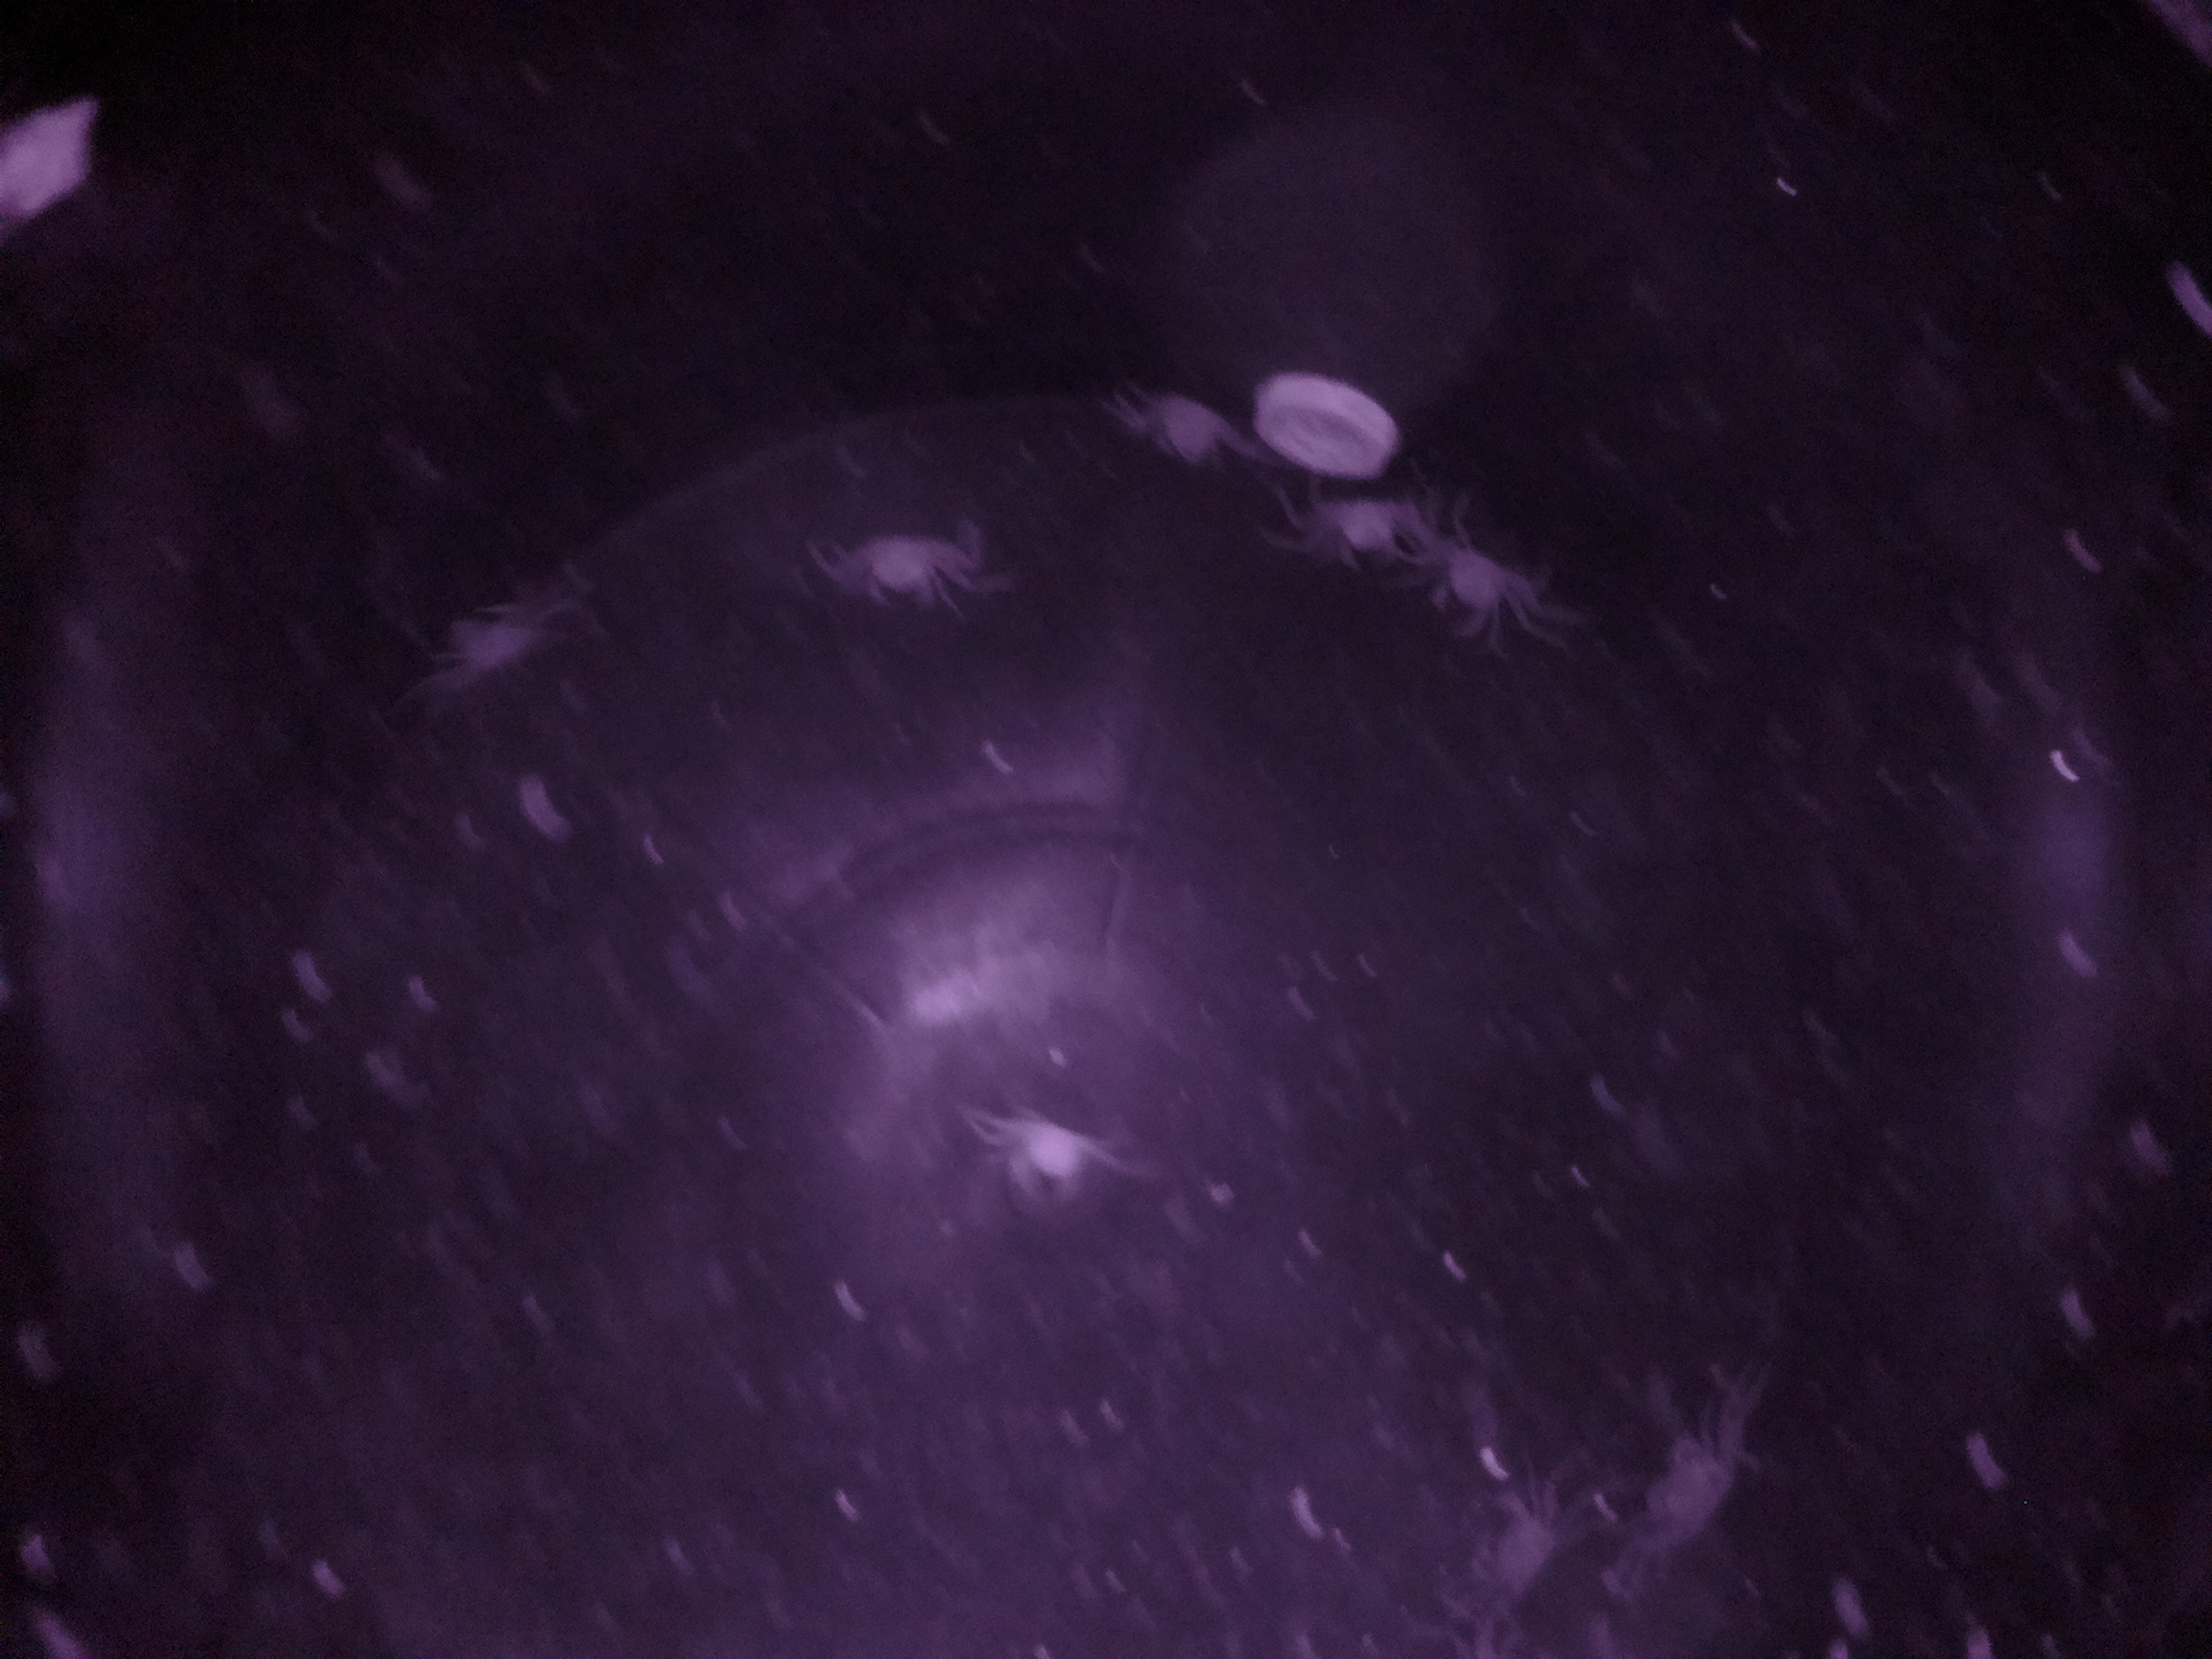Crab: (1416, 514, 1533, 664), (846, 507, 965, 622)
